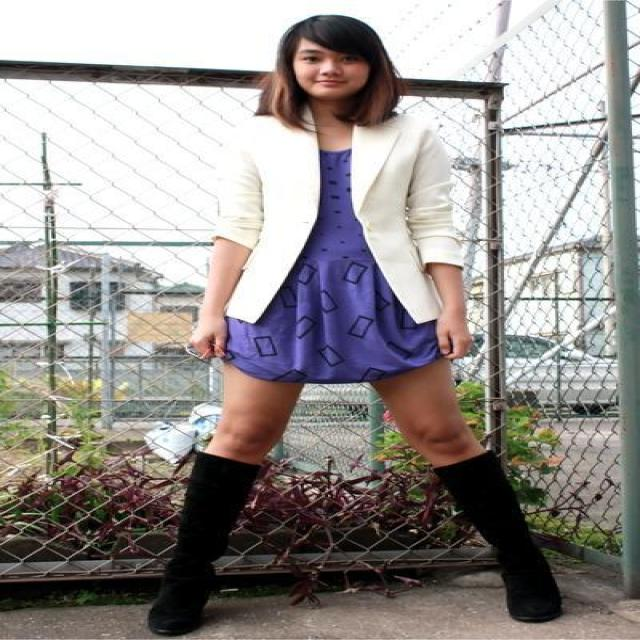dress: (195, 148, 440, 396)
jacket: (224, 96, 478, 322)
shoe: (136, 448, 555, 636)
